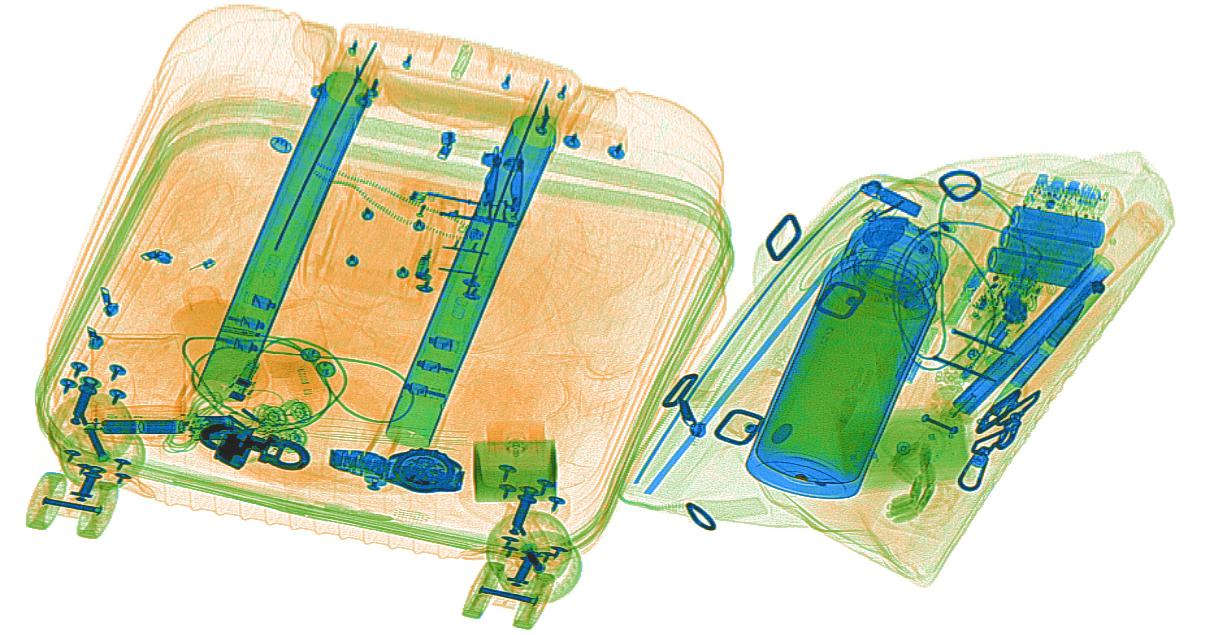USBFlashDisk: (936, 263, 989, 333), (893, 321, 939, 387)
battery: (980, 169, 1111, 295), (137, 417, 184, 437), (97, 417, 145, 434)
plasticBottleWithaNozzle: (252, 295, 343, 436)
